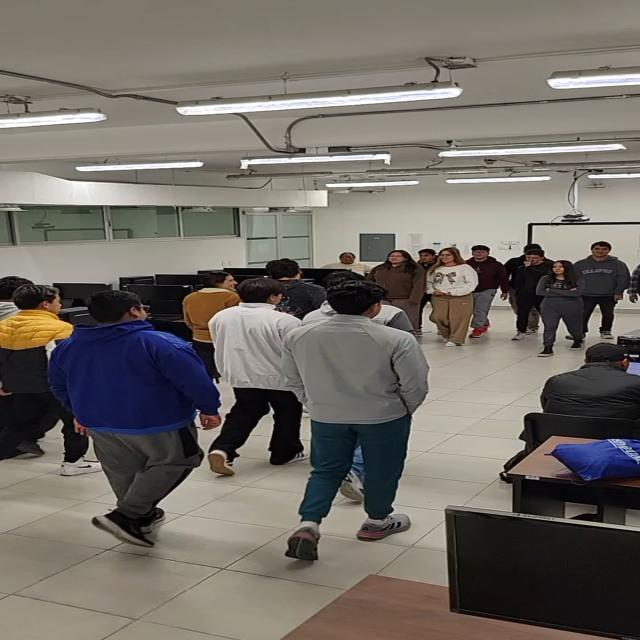Persona: (45, 290, 225, 550), (280, 280, 430, 560), (203, 276, 313, 476), (0, 283, 105, 478), (182, 270, 246, 378), (569, 240, 631, 340), (499, 248, 563, 342), (424, 246, 482, 348), (534, 258, 590, 358), (368, 249, 428, 340), (465, 245, 511, 338), (264, 258, 330, 320)
